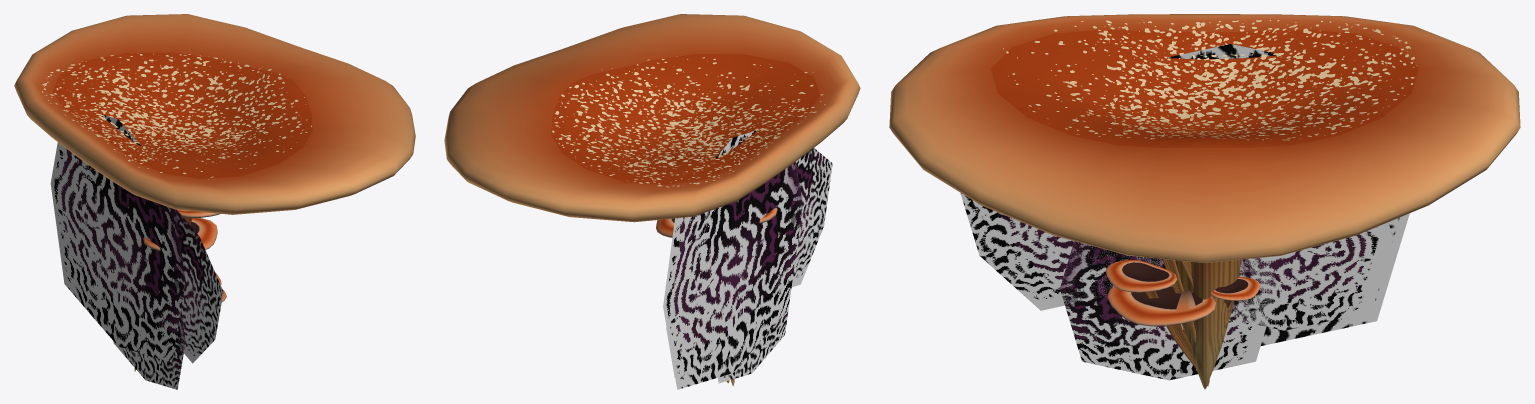
The model's file is ShroomBridge.fbx.
3 renders of one model, left to right at view 1: azimuth 30°, elevation 25°; view 2: azimuth 150°, elevation 25°; view 3: azimuth 270°, elevation 25°, orthographic. The views are drawn at different scales.
Visible parts, largest first — view 1: Cube; view 2: Cube; view 3: Cube.
Boxes of the visible parts, x1,y1,x2,y2 form: Cube: (14, 14, 415, 389); Cube: (444, 14, 860, 389); Cube: (889, 14, 1520, 389).
Bounding box in the file's own units: 723 × 559 × 911.
